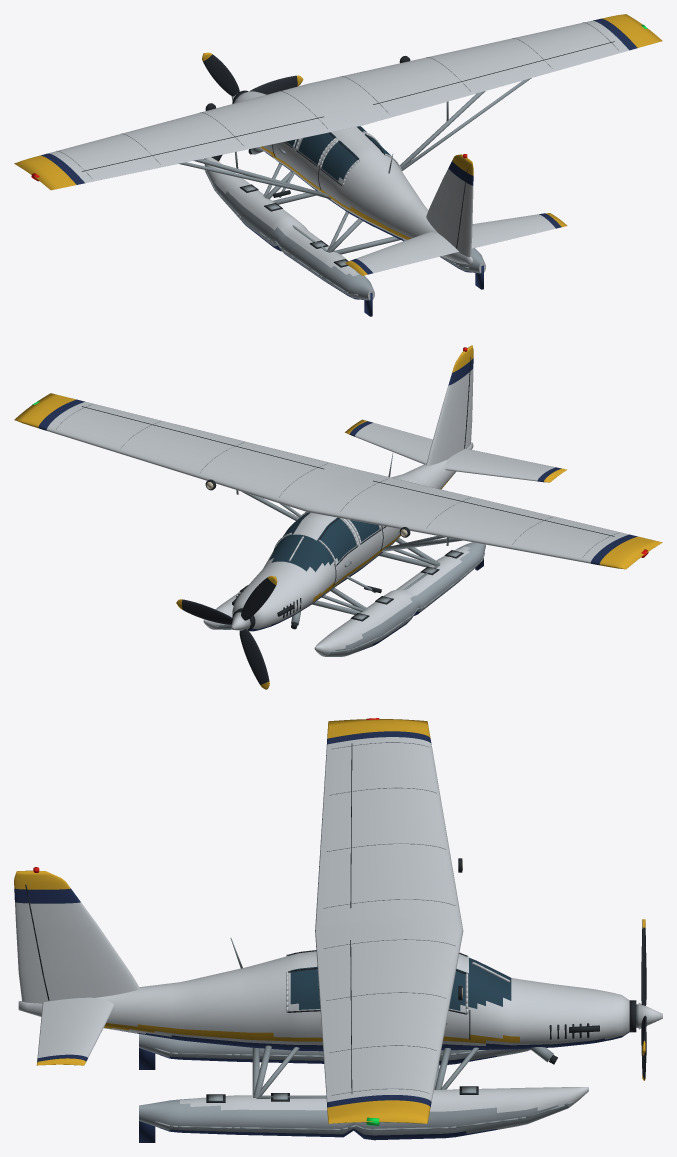
The model's file is floatplane_flat.glb.
3 renders of one model, top to bottom at view 1: azimuth 30°, elevation 25°; view 2: azimuth 150°, elevation 25°; view 3: azimuth 270°, elevation 25°, orthographic. The views are drawn at different scales.
Visible parts, largest first — view 1: floatplane; view 2: floatplane; view 3: floatplane.
Part boxes in pixels (x1,y1,x2,y2): floatplane: [14, 14, 662, 316]; floatplane: [14, 345, 662, 689]; floatplane: [14, 718, 662, 1142].
Bounding box in the file's own units: 14.03 × 3.85 × 9.54.
